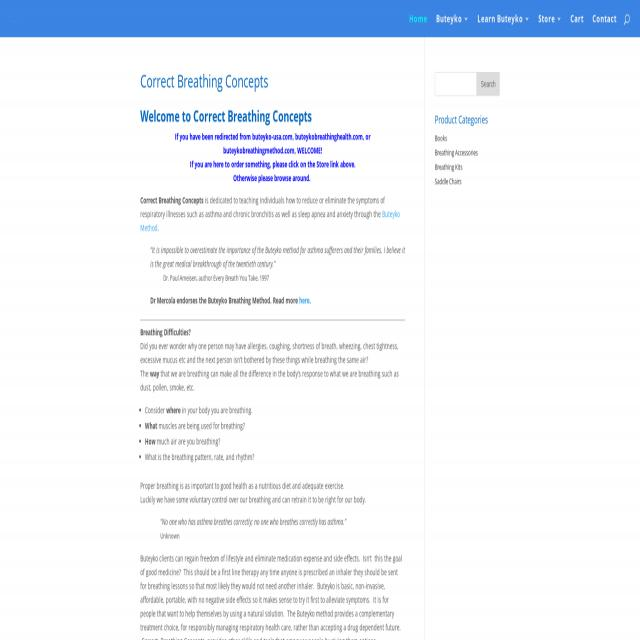button: (476, 10, 529, 32), (437, 11, 469, 34), (476, 72, 500, 97), (538, 9, 561, 32), (592, 10, 616, 32), (409, 10, 427, 32), (570, 9, 584, 32), (620, 8, 634, 30)
field: (434, 72, 500, 96)
